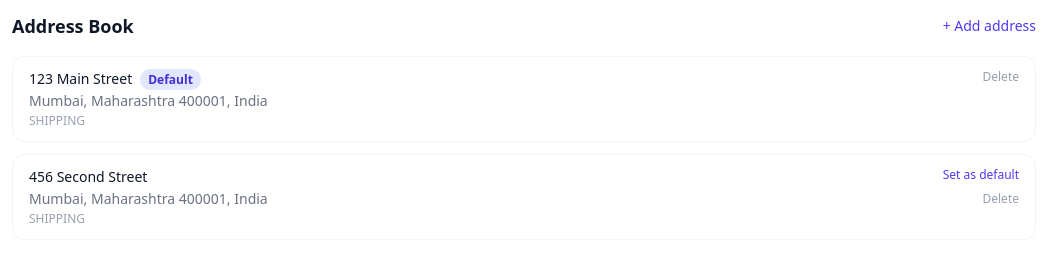
Test: AddressesTab › deletes an address and reloads the list
Expected: the text "456 Second Street" is shown, 29,167 -> 147,186
Click the 2nd button "Delete" at x=1001, y=199, box 982,191 -> 1019,207
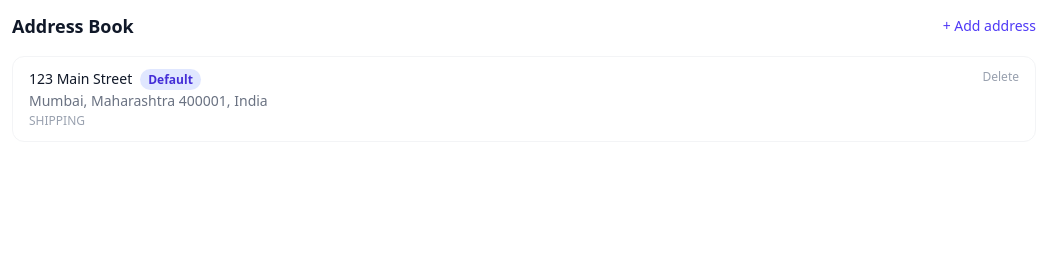
Expected: the text "456 Second Street" is gone
